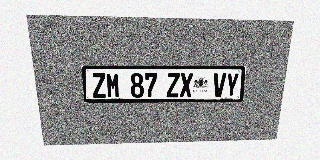7: (144, 73, 157, 98)
8: (130, 73, 144, 98)
M: (106, 73, 120, 98)
V: (212, 73, 226, 97)
X: (179, 73, 193, 97)
Y: (225, 73, 239, 97)
Z: (92, 73, 107, 98), (166, 73, 180, 97)
